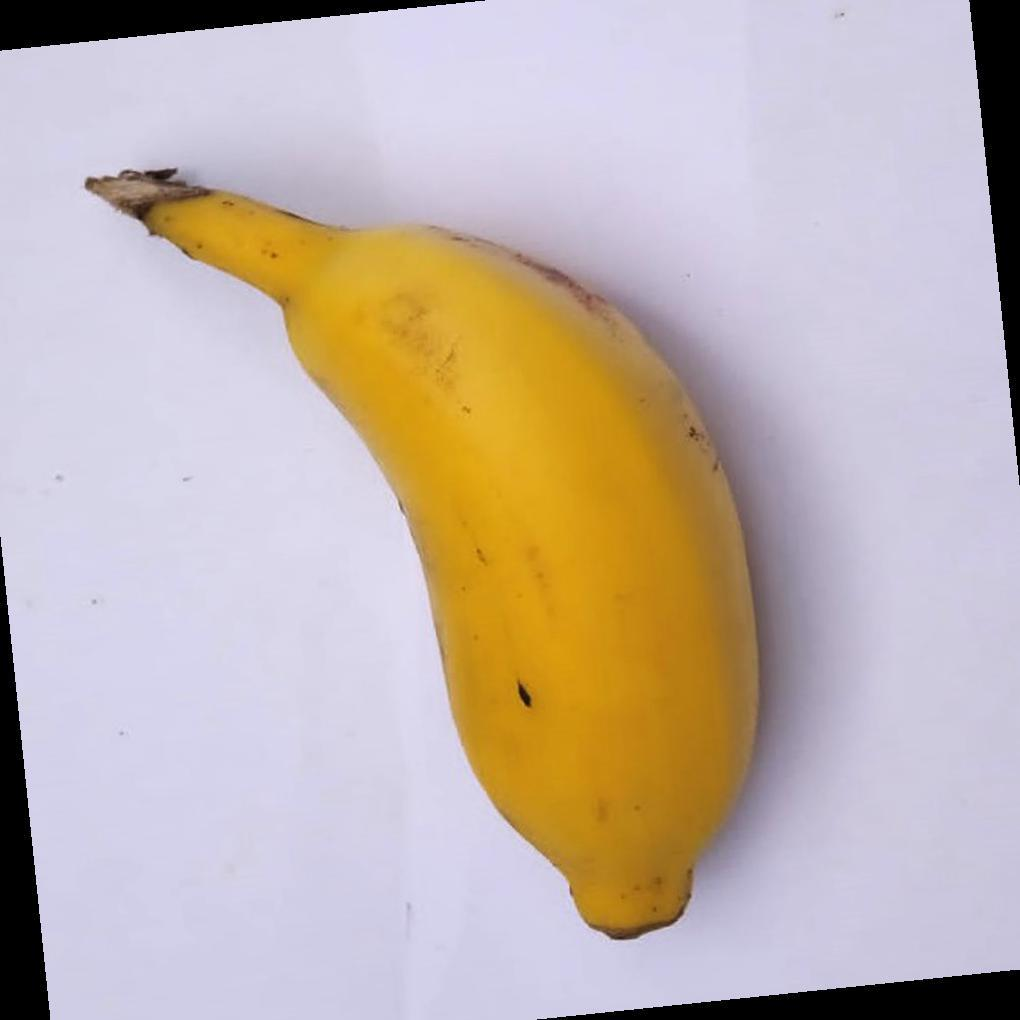Banana Ripe: (128, 166, 782, 971)
